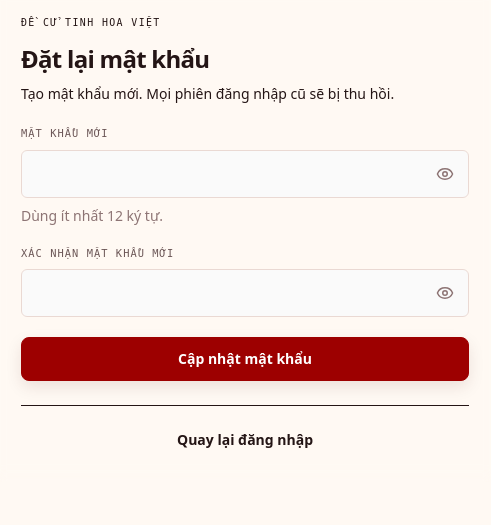
Test: Firebase password recovery › shows a safe message for an expired reset code
Type "correct horse battery staple" into the password field labelled "Mật khẩu mới" at (245, 174), box [21,150,469,198]
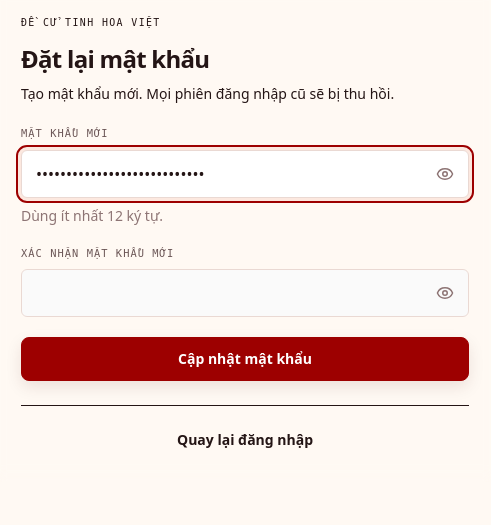
Type "correct horse battery staple" into the password field labelled "Xác nhận mật khẩu mới" at (245, 293), box [21,269,469,317]
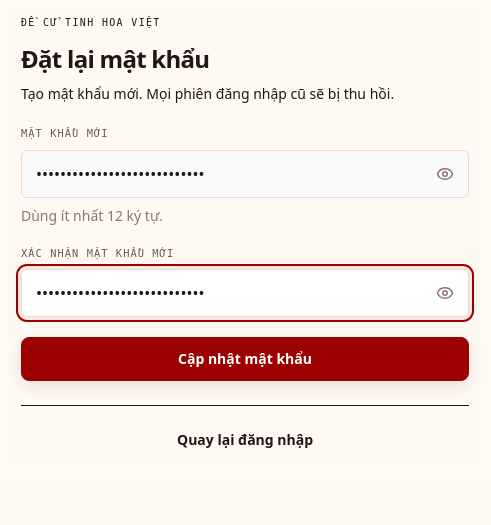
Click the button "Cập nhật mật khẩu" at (245, 359), box [21,337,469,381]
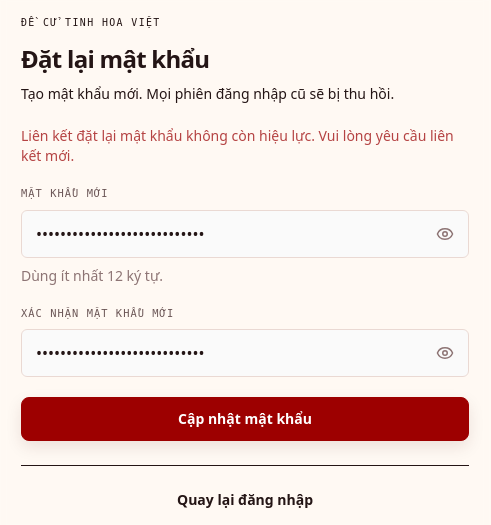
Now the message shows "Liên kết đặt lại mật khẩu không còn hiệu lực", box [21,126,454,165]
